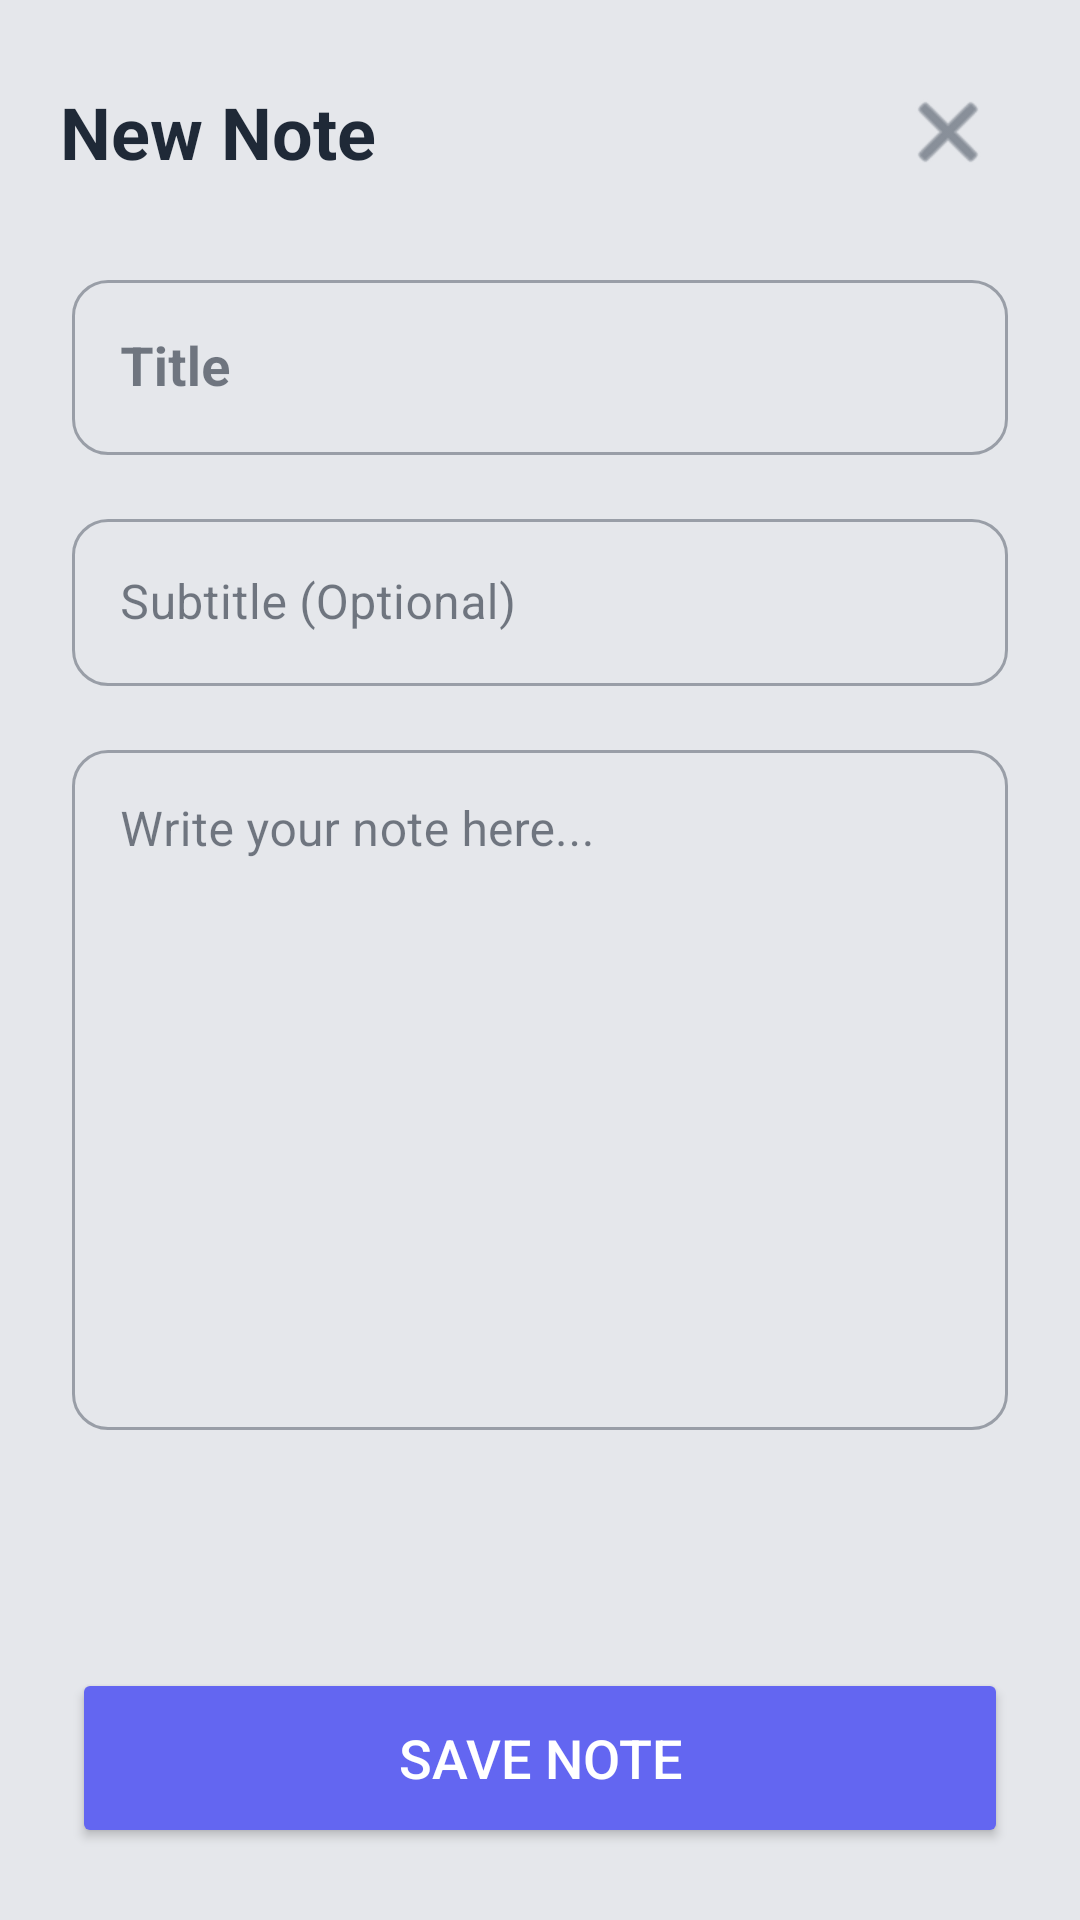

Icons on this 1080px x 1920px Android screen, each with its box as {"left": x1, "top": y1, "right": x2, "bottom": y2}:
Close: {"left": 918, "top": 102, "right": 978, "bottom": 162}
